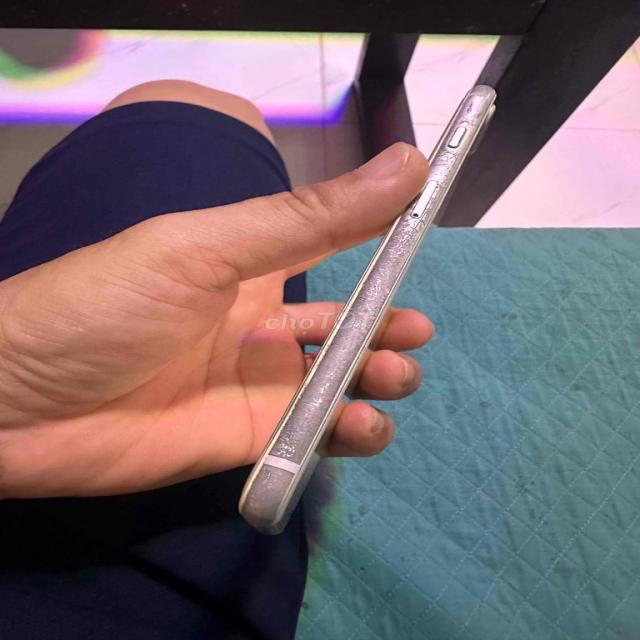gen_7_8: (223, 78, 504, 515)
scratch: (397, 151, 465, 215), (332, 278, 394, 342), (294, 351, 350, 416), (372, 220, 425, 274), (247, 467, 292, 508), (452, 84, 497, 124), (266, 420, 315, 456)
